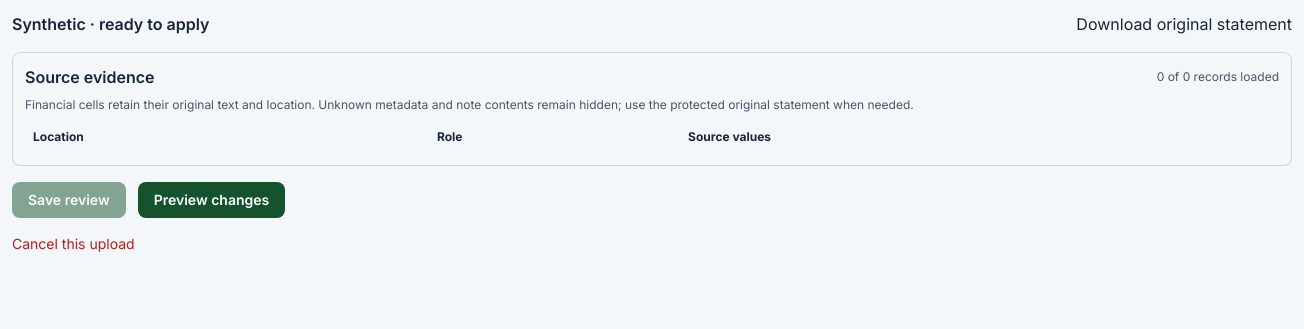
Test: shows stale-review errors without claiming publication
This screenshot has width=1304, height=329.
Click the button "Preview changes": (212, 200) [138, 182, 285, 218]
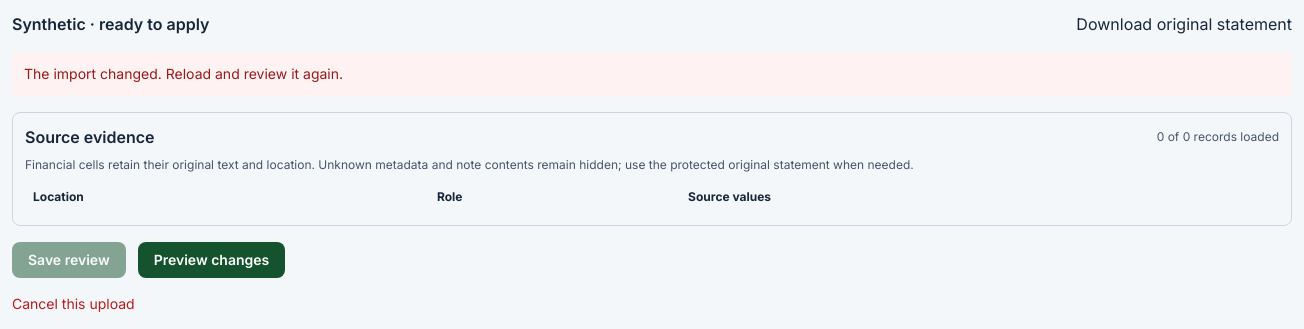
Check: the message shows "Reload and review", box [24, 65, 343, 82]
